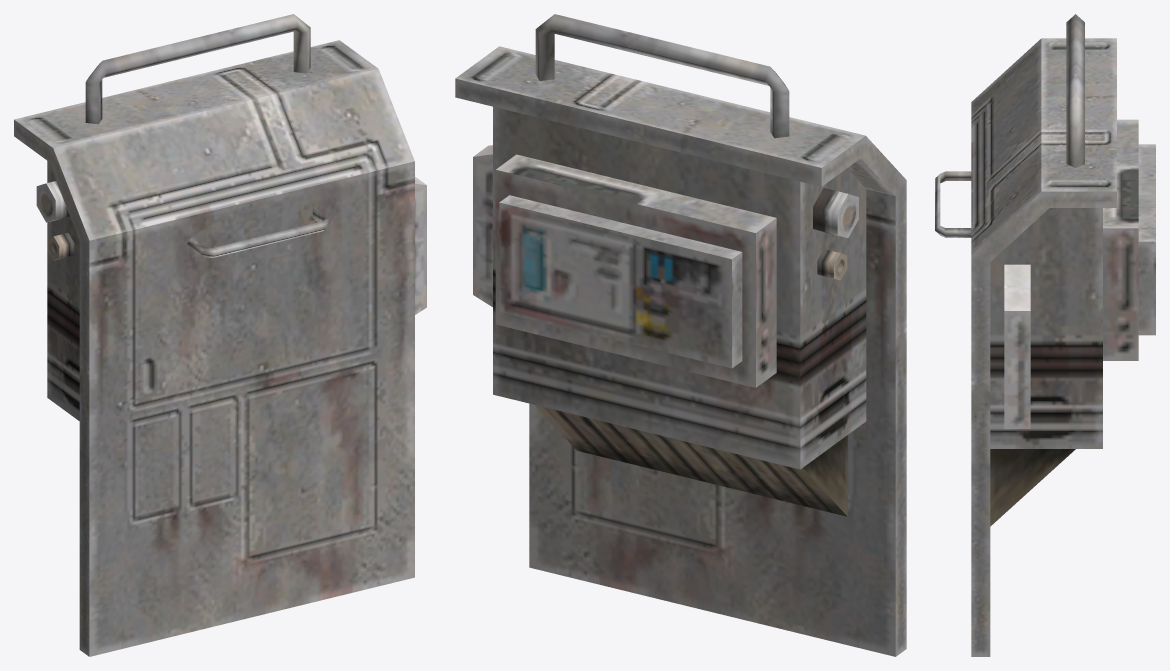
The model's file is eqp_repair_armor.fbx.
3 views of the same model, side by side, from view 1: azimuth 30°, elevation 25°; view 2: azimuth 150°, elevation 25°; view 3: azimuth 270°, elevation 25° (orthographic). The views are drawn at different scales.
Visible parts, largest first — view 1: mesh_node; view 2: mesh_node; view 3: mesh_node.
Boxes of the visible parts, x1,y1,x2,y2 form: mesh_node: (14, 14, 426, 656); mesh_node: (455, 14, 906, 656); mesh_node: (935, 14, 1155, 656).
Size of the model in its own units: 0.3563 by 0.5189 by 0.1993.
